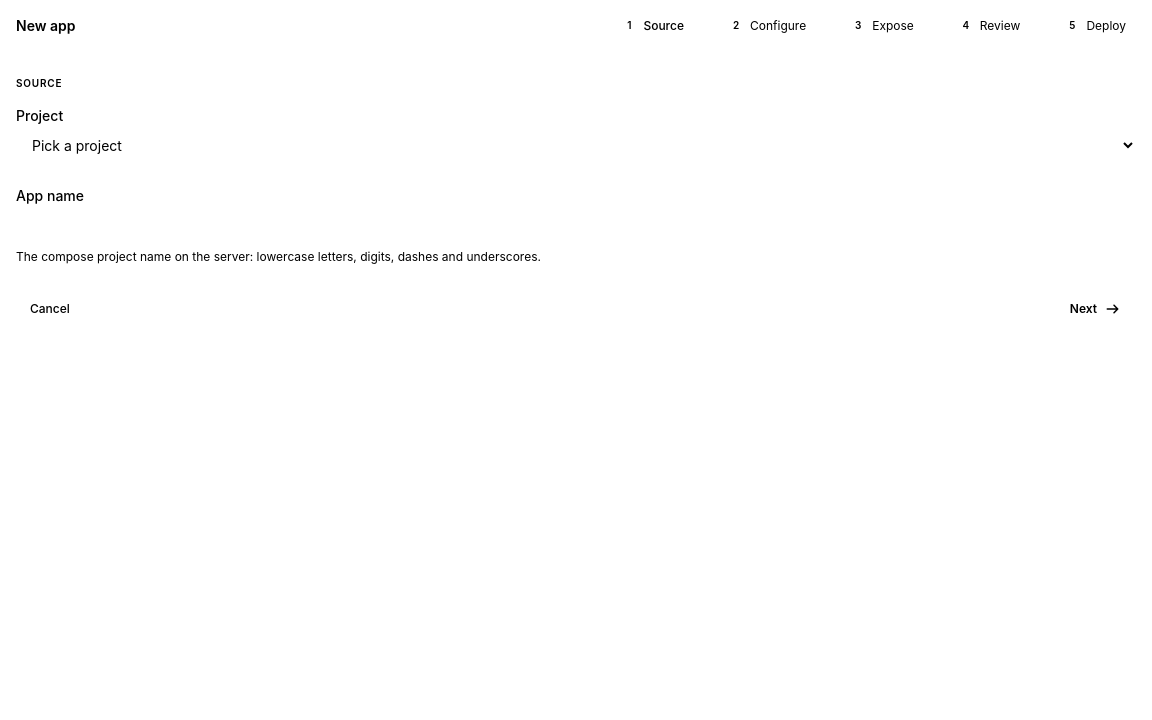
Test case: NewAppWizard configure and expose › says when the compose file could not be read
Select "Shop" in the dropdown labelled "Project" at (576, 145), box [16,127,1136,163]
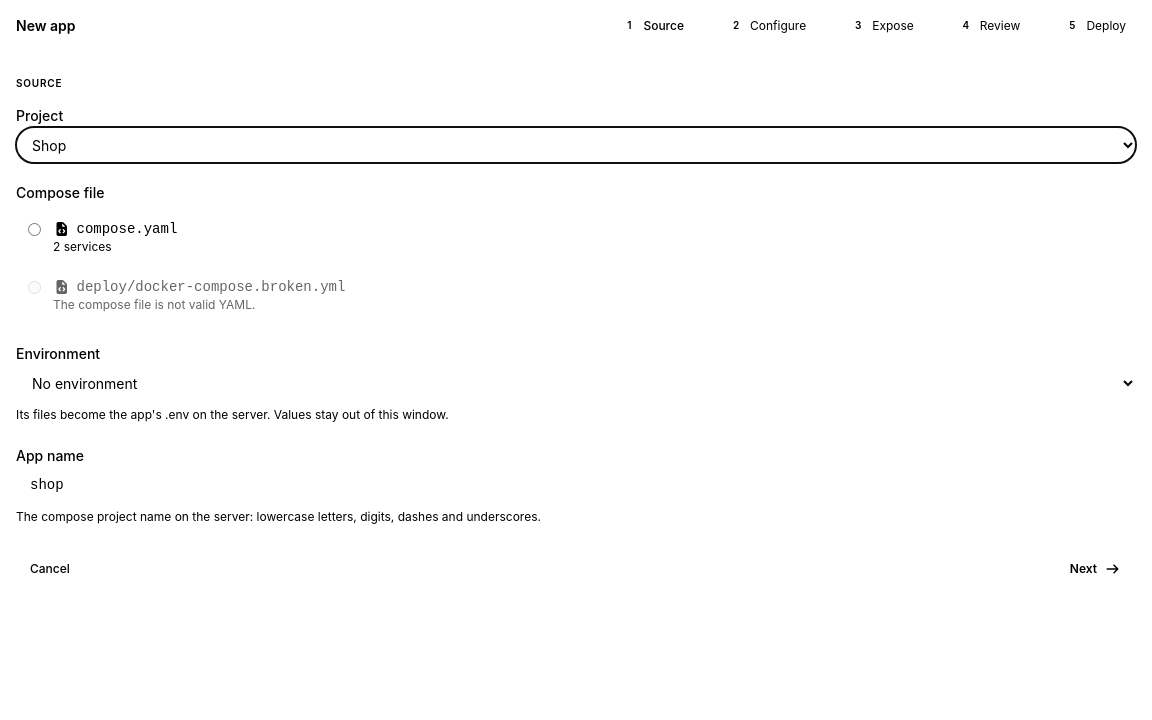
Click the radio button labelled "compose.yaml 2 services" at (34, 230), box [28,223,41,236]
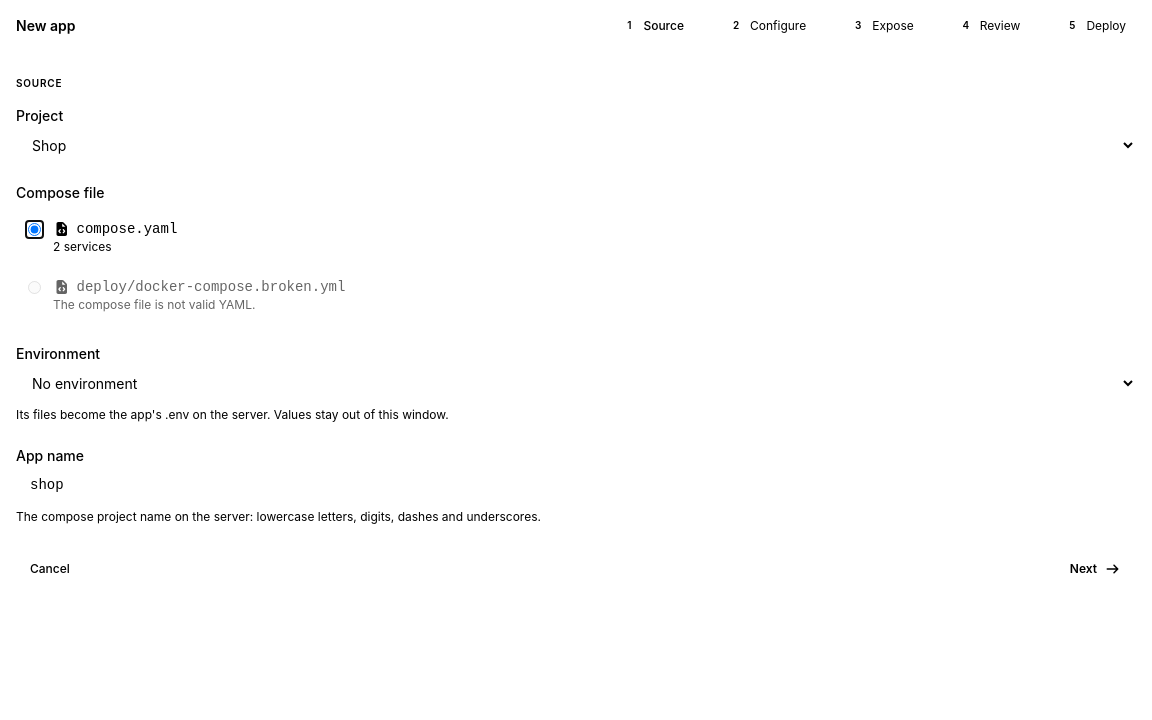
Select "Production" in the dropdown labelled "Environment" at (576, 383), box [16,365,1136,401]
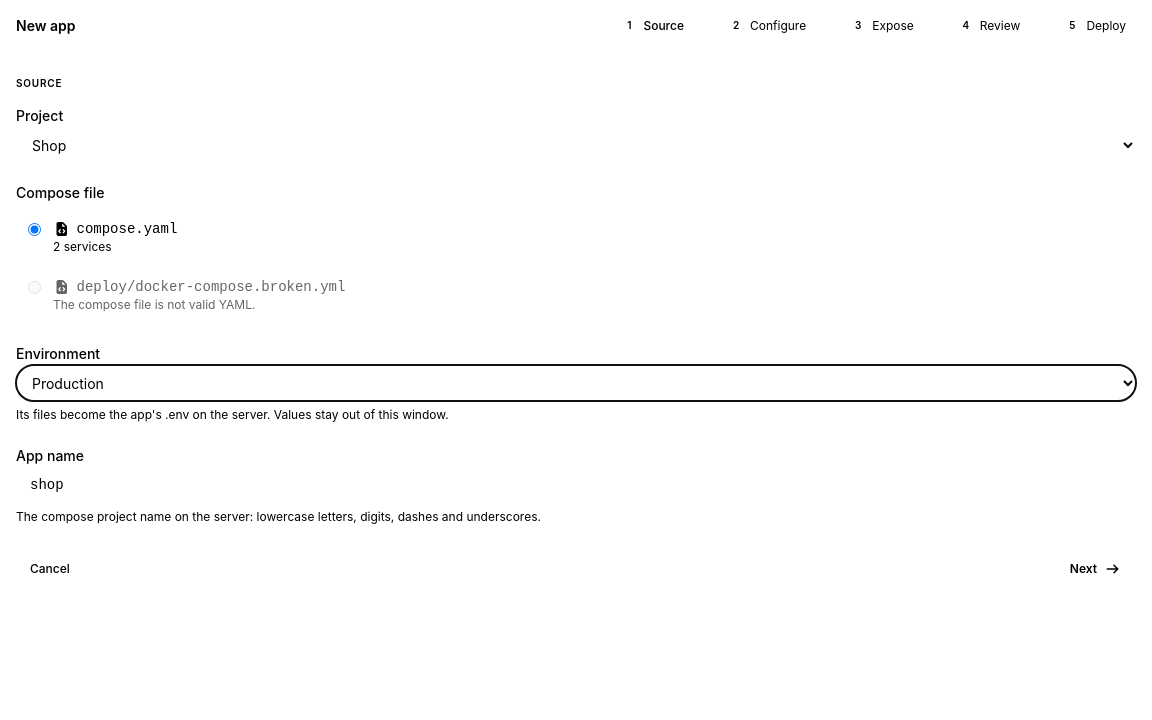
Click the button "Next" at (1095, 569), box [1054,553,1136,585]
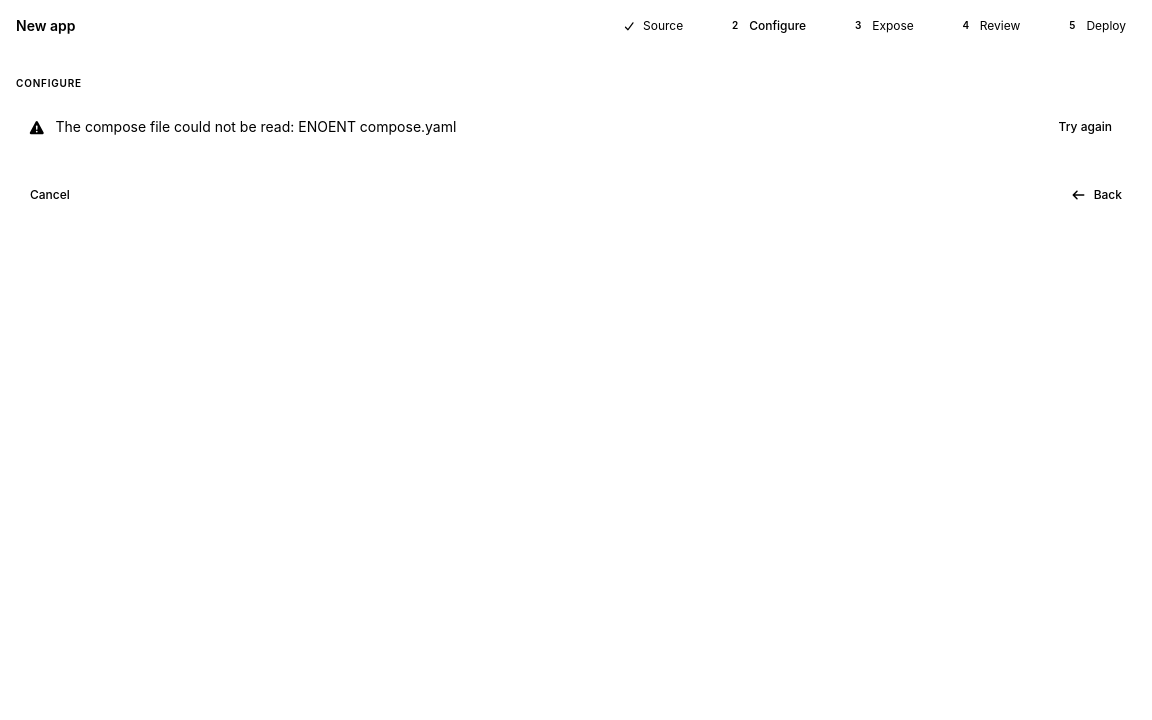
Result: the text "The compose file could not be read: ENOENT compose.yaml" is shown at [56,118,456,135]
